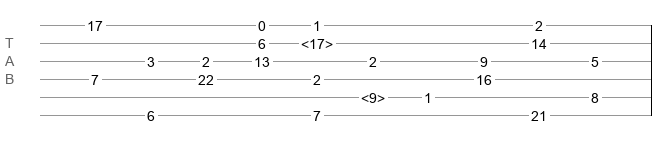0: (258, 18, 266, 28)
1: (313, 18, 321, 28), (424, 90, 432, 100)
13: (254, 54, 270, 64)
14: (531, 36, 547, 46)
16: (476, 72, 492, 82)
17: (87, 18, 103, 28)
2: (202, 54, 210, 64), (313, 72, 321, 82), (369, 54, 377, 64), (535, 18, 543, 28)
21: (531, 108, 547, 118)
22: (198, 72, 214, 82)
3: (147, 54, 155, 64)
5: (591, 54, 599, 64)
6: (147, 108, 155, 118), (258, 36, 266, 46)
7: (91, 72, 99, 82), (313, 108, 321, 118)
8: (591, 90, 599, 100)
9: (480, 54, 488, 64)
harmonic: (301, 36, 333, 46), (361, 90, 385, 100)
